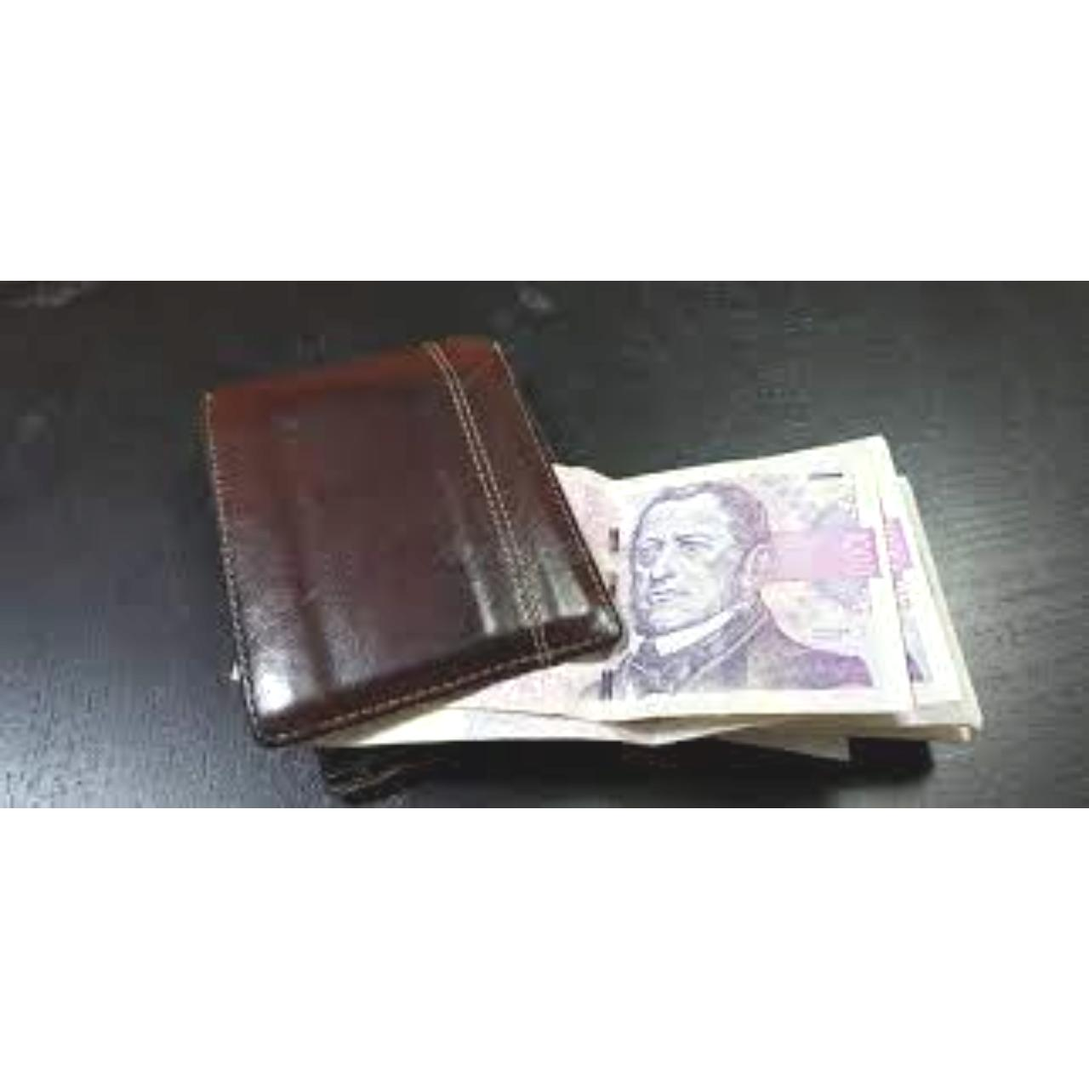wallet: (190, 338, 629, 741)
